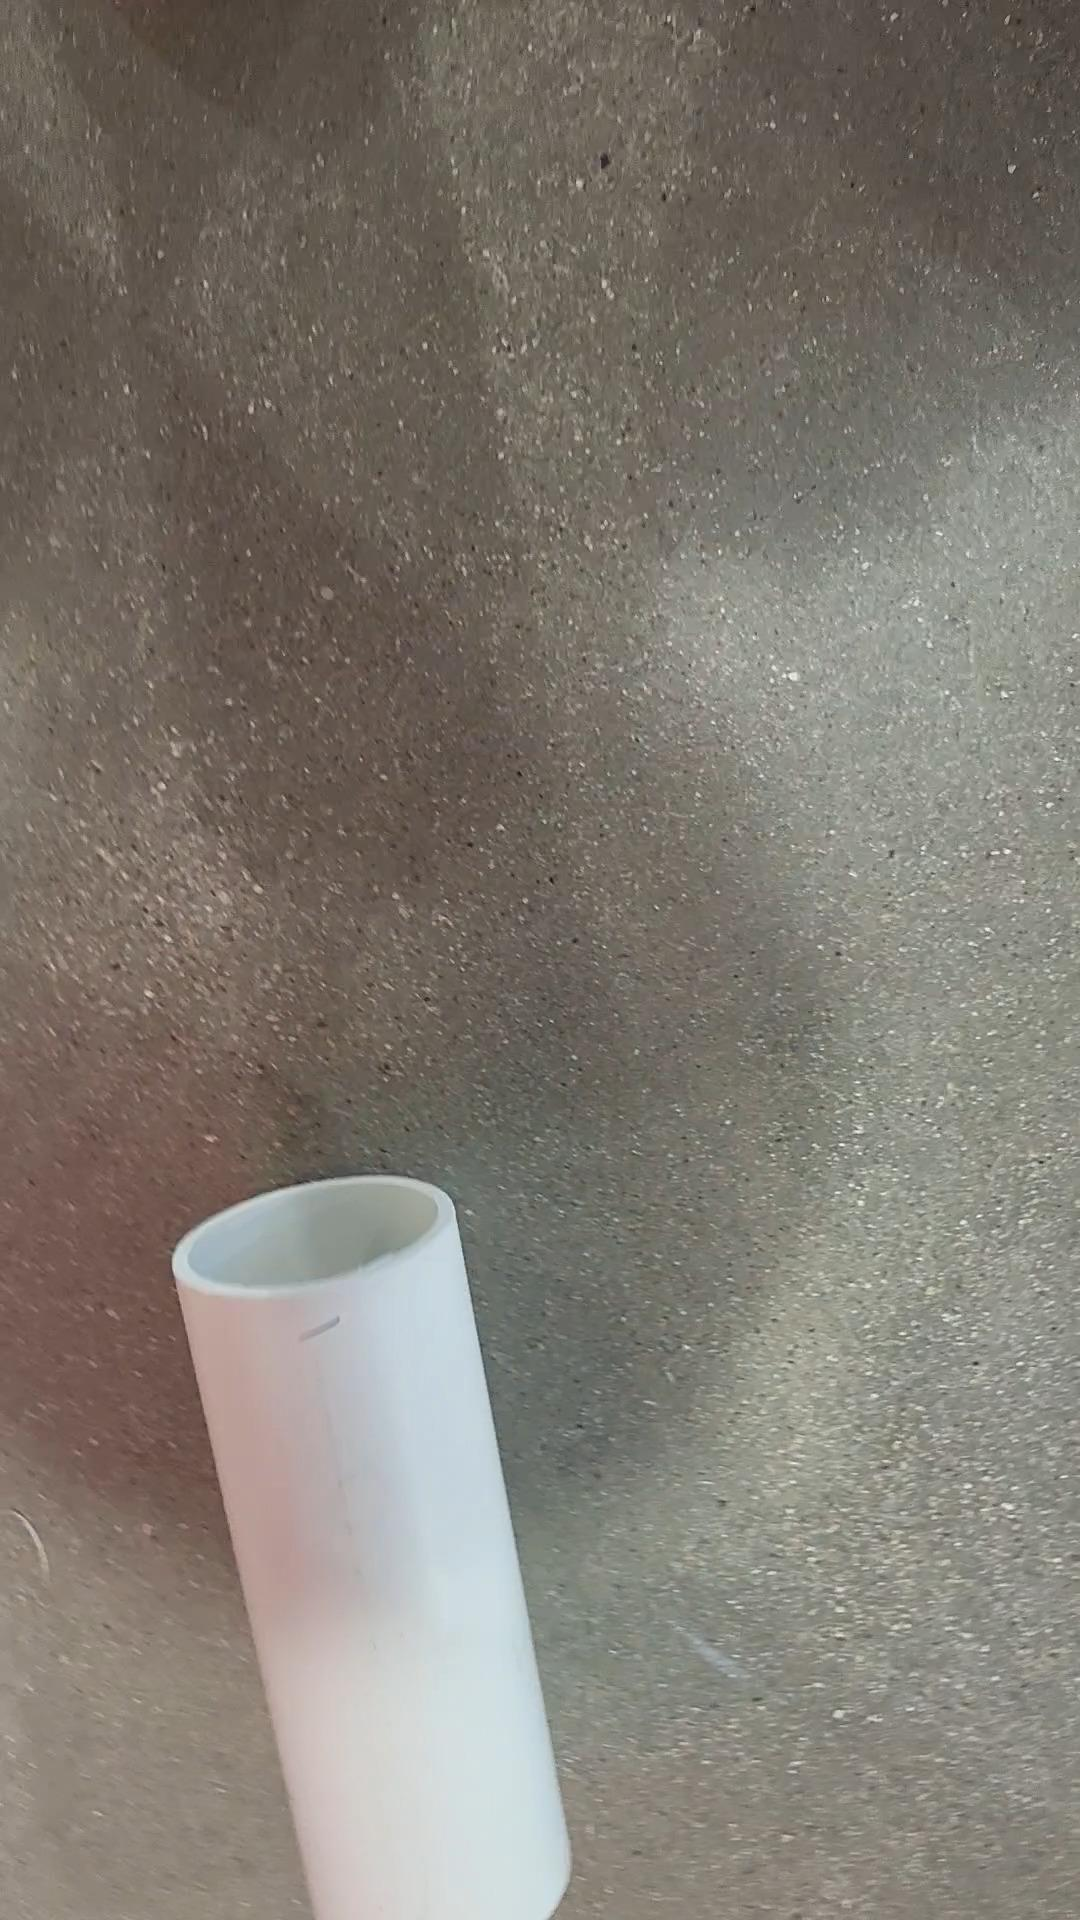coral: (173, 1176, 576, 1920)
